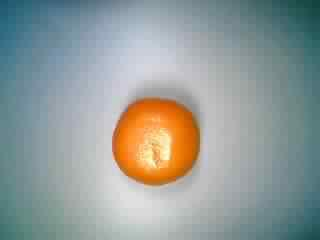orange: (106, 93, 207, 190)
